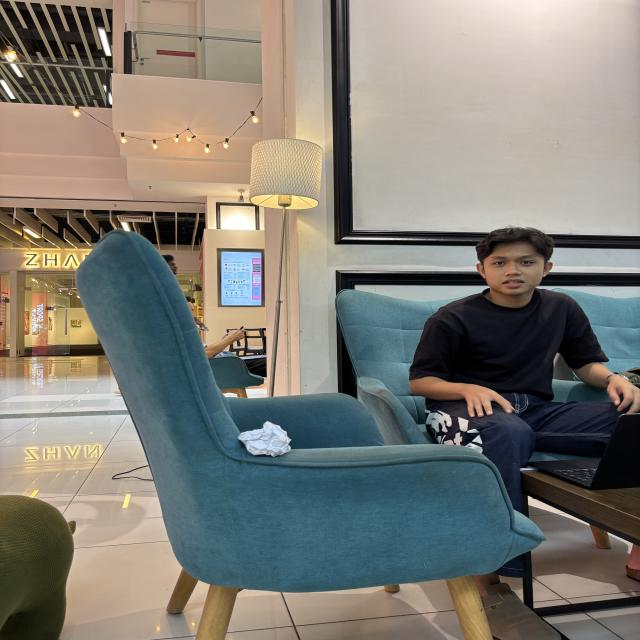crumpled_paper: (235, 418, 295, 460)
